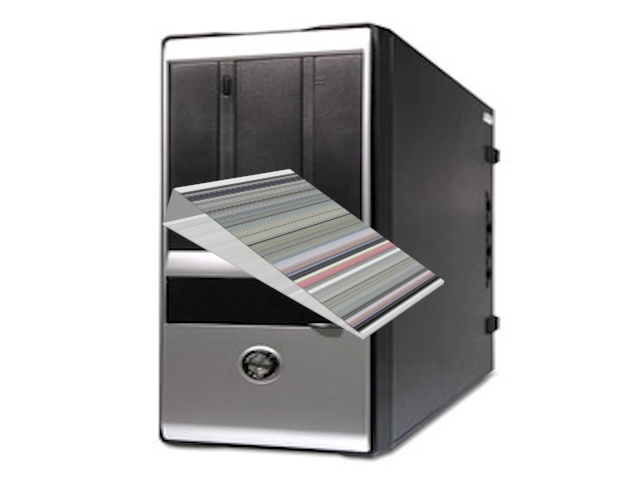ring_binder: (161, 161, 448, 344)
